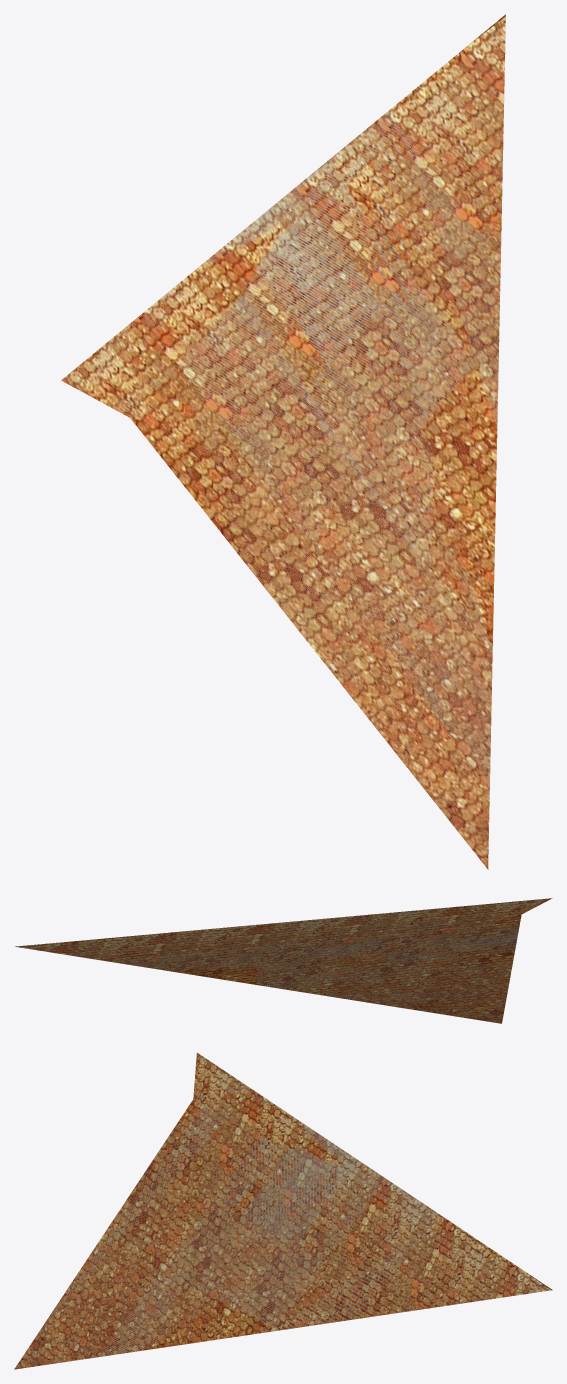
File: 西庸城堡713.dae
The picture shows the model from 3 angles, top to bottom: view 1: azimuth 30°, elevation 25°; view 2: azimuth 150°, elevation 25°; view 3: azimuth 270°, elevation 25°; orthographic projection. The views are drawn at different scales.
Parts seen in each view (by area): view 1: SketchUp; view 2: SketchUp; view 3: SketchUp.
Boxes of the visible parts, bbox=[...] form: SketchUp: bbox=[61, 14, 505, 869]; SketchUp: bbox=[15, 898, 552, 1023]; SketchUp: bbox=[14, 1052, 552, 1369].
Size of the model in its own units: 363 by 395 by 198.
